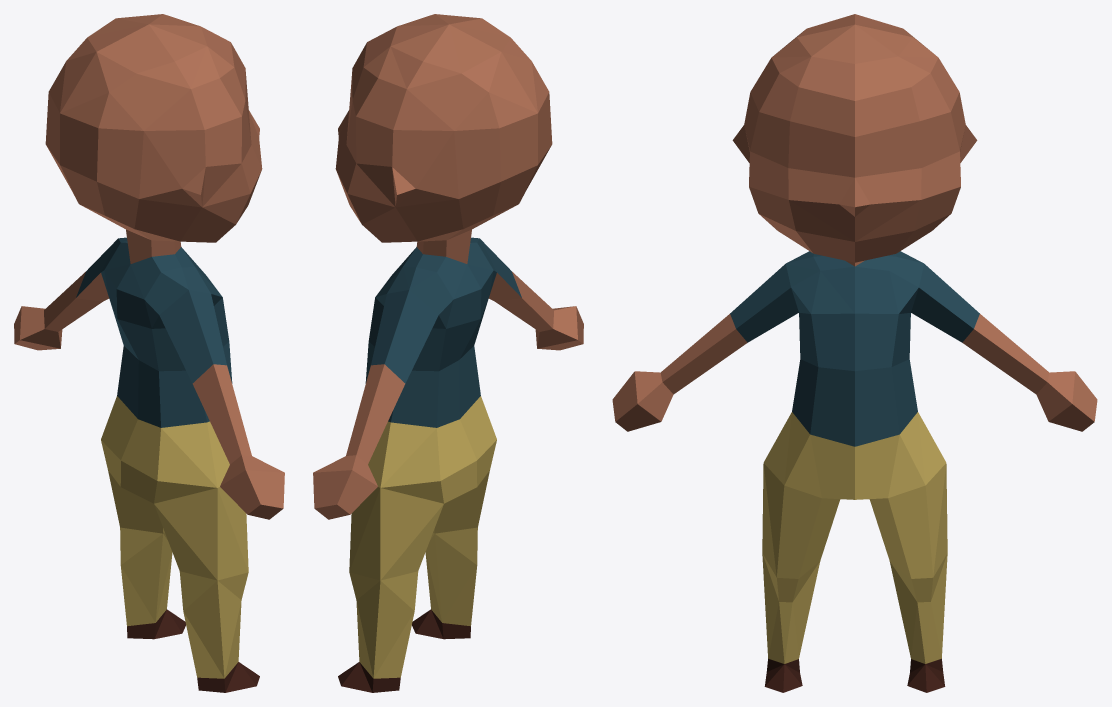
File: Npc3.fbx
3 views of the same model, side by side, from view 1: azimuth 30°, elevation 25°; view 2: azimuth 150°, elevation 25°; view 3: azimuth 270°, elevation 25° (orthographic).
Visible parts, largest first — view 1: Human_Base.004; view 2: Human_Base.004; view 3: Human_Base.004.
Part boxes in pixels (bbox=[...]): Human_Base.004: bbox=[14, 14, 284, 692]; Human_Base.004: bbox=[313, 14, 583, 692]; Human_Base.004: bbox=[612, 14, 1097, 692].
Size of the model in its own units: 63.77 by 196 by 136.
